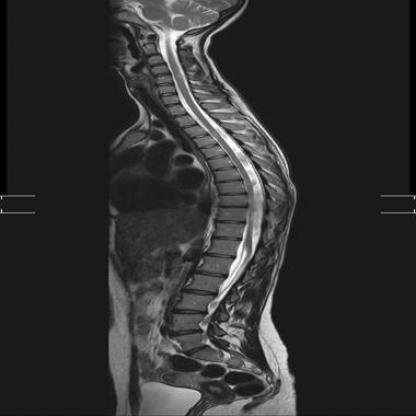Disc Bulgerotation: (217, 201, 248, 211), (217, 189, 248, 198), (214, 176, 243, 185), (153, 70, 171, 80)
